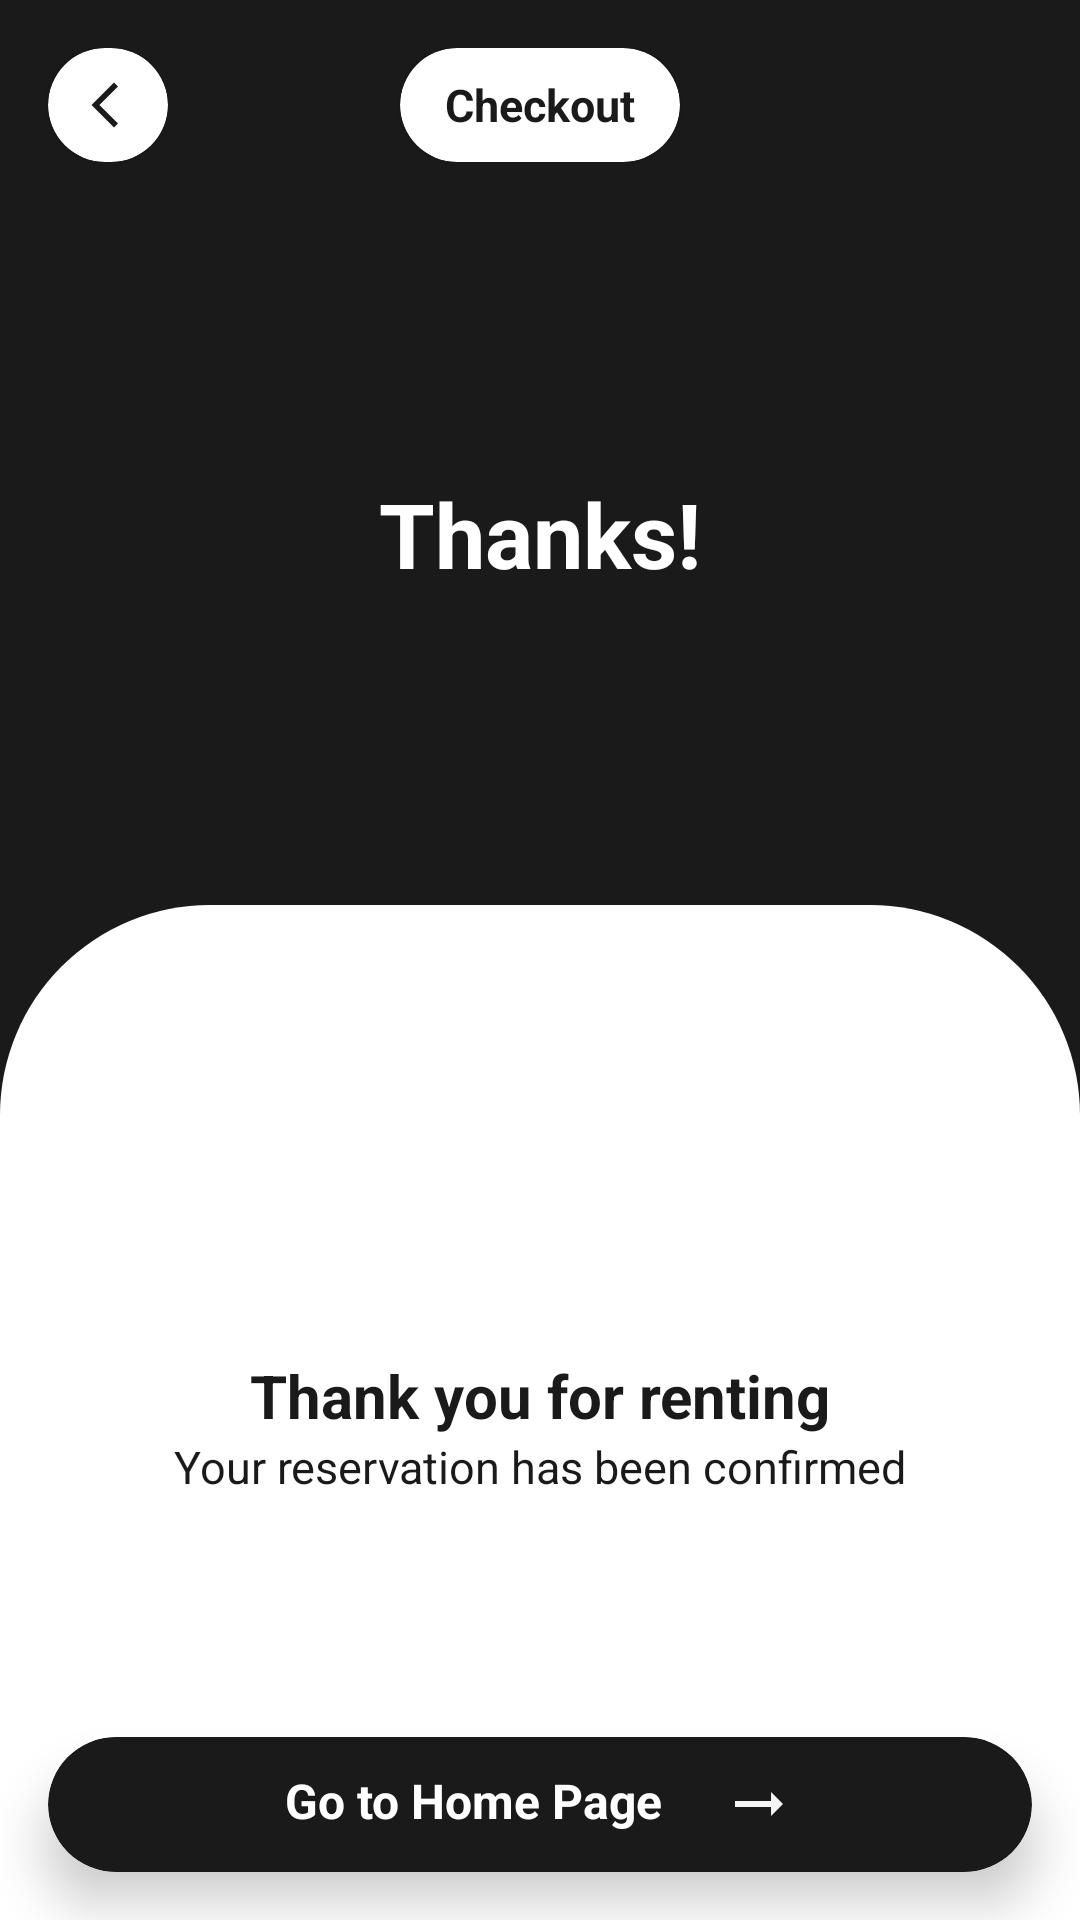

Where icons sit on this 1080px×1920px app screen, as (x1, y1, x2, y2):
arrow back: (91, 82, 118, 128)
